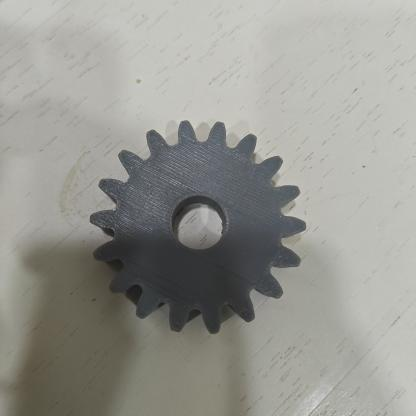gear: (90, 120, 306, 334)
